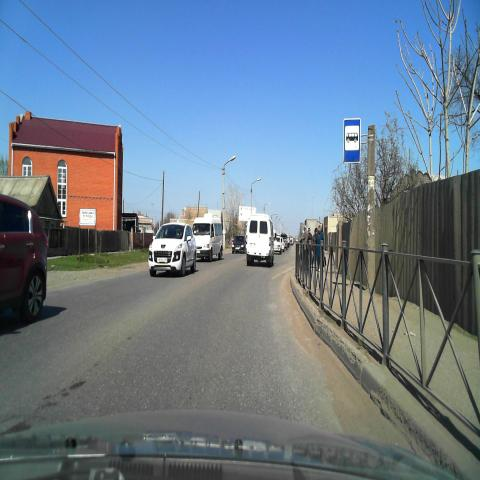5_16: (344, 118, 360, 162)
